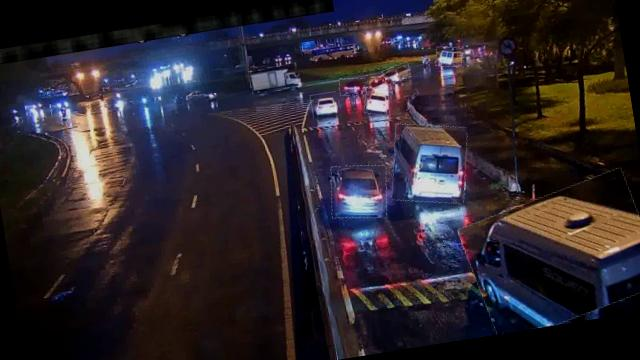Bus: (458, 172, 640, 336), (384, 115, 474, 210), (434, 44, 464, 70)
Car: (326, 160, 392, 222), (310, 90, 340, 119), (362, 86, 391, 116), (363, 74, 392, 100), (338, 74, 367, 96), (382, 62, 412, 82)
Truck: (249, 62, 300, 94)
